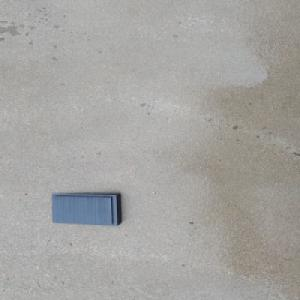PlasticPart: (51, 192, 123, 226)
